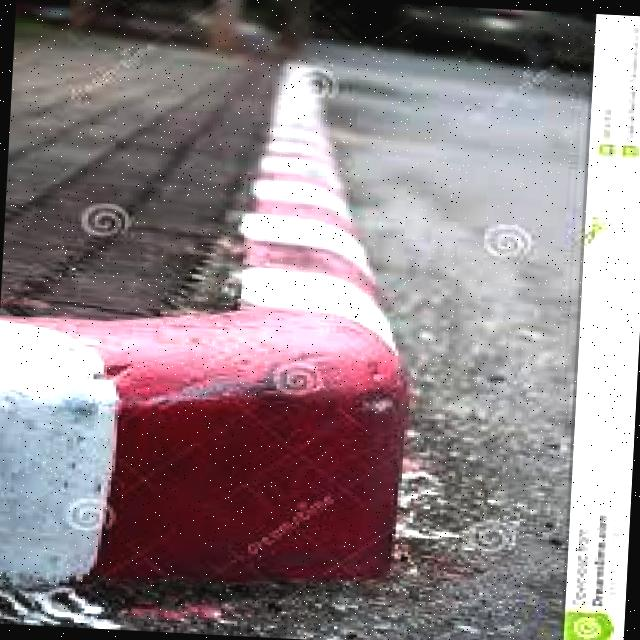curb: (3, 312, 410, 617), (247, 56, 393, 344)
